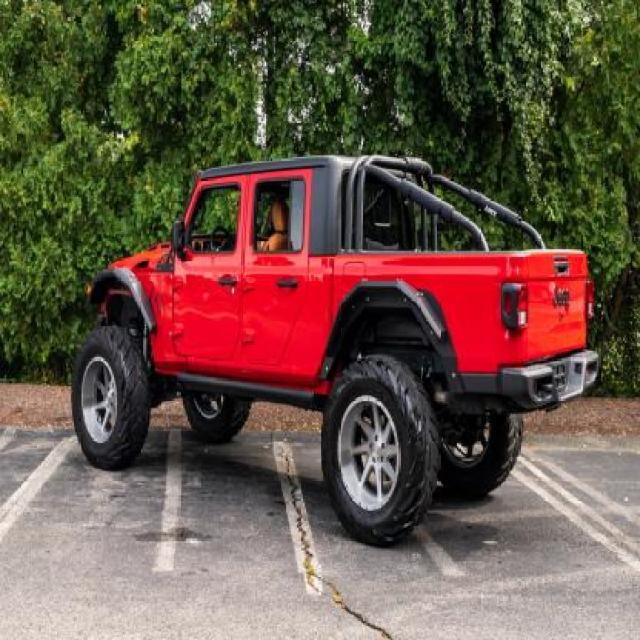Jeep: (64, 148, 602, 538)
